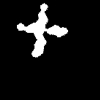single_crochet: (17, 4, 67, 56)
